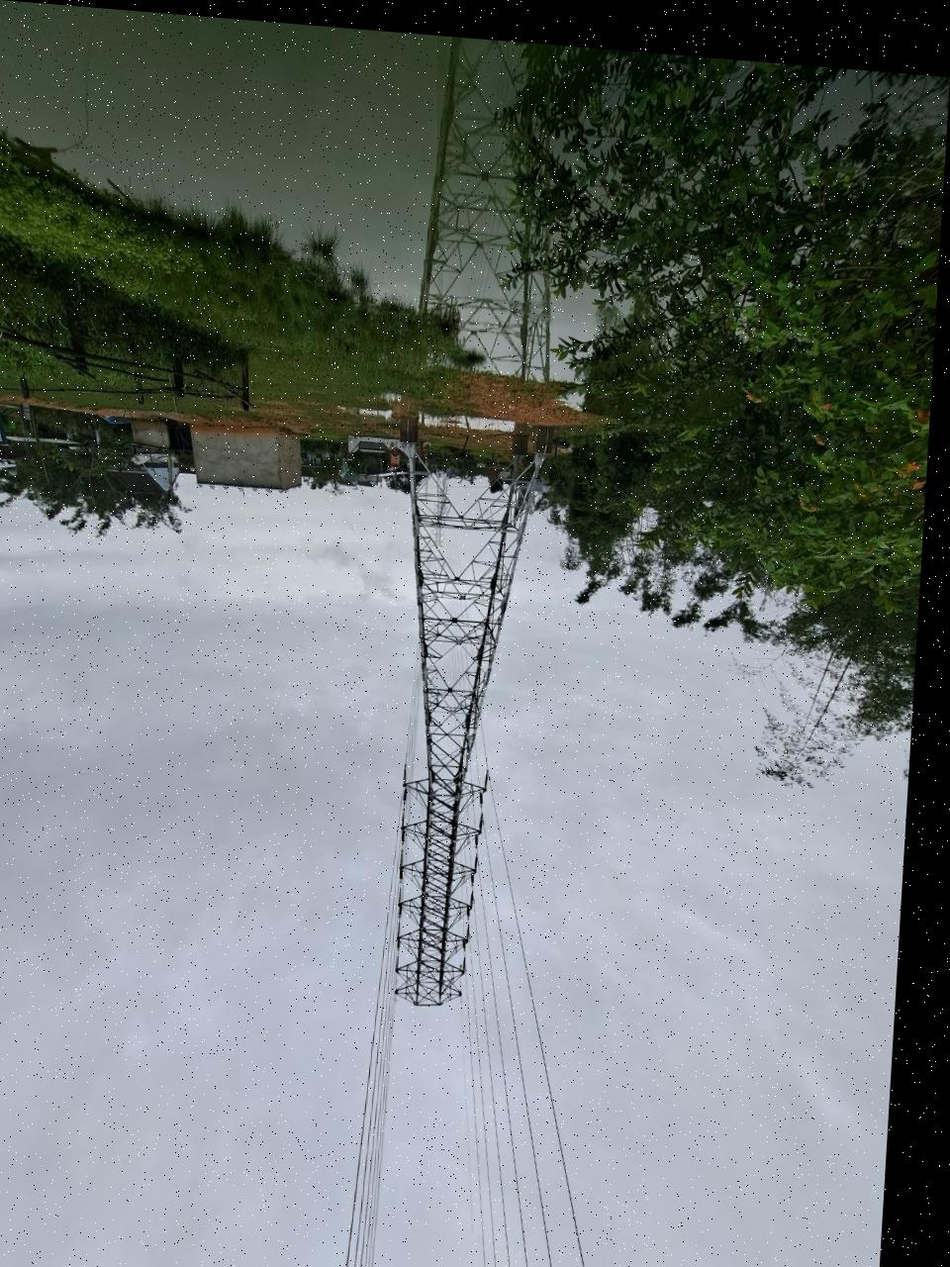tower: (352, 435, 552, 1018)
